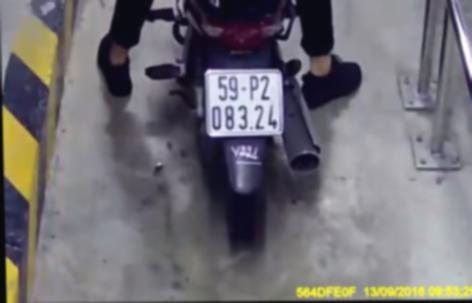License_Plate: (190, 63, 294, 142)
